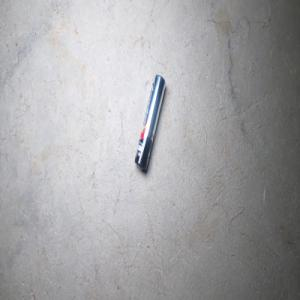Battery: (134, 73, 166, 173)
